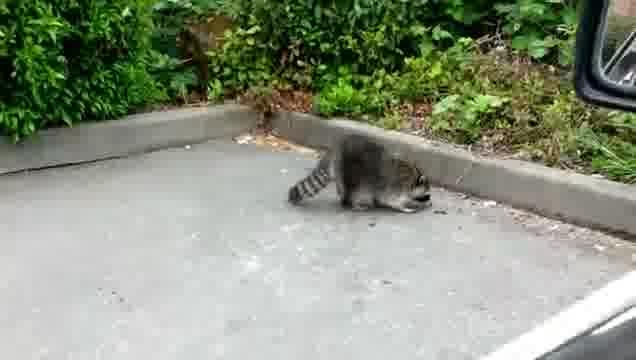raccoon: (286, 132, 433, 215)
